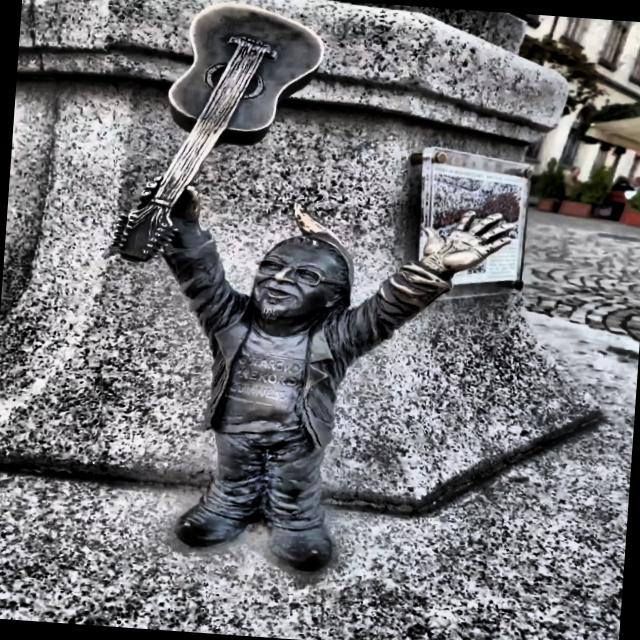Leszko_z_Wroclawia: (113, 4, 521, 573)
